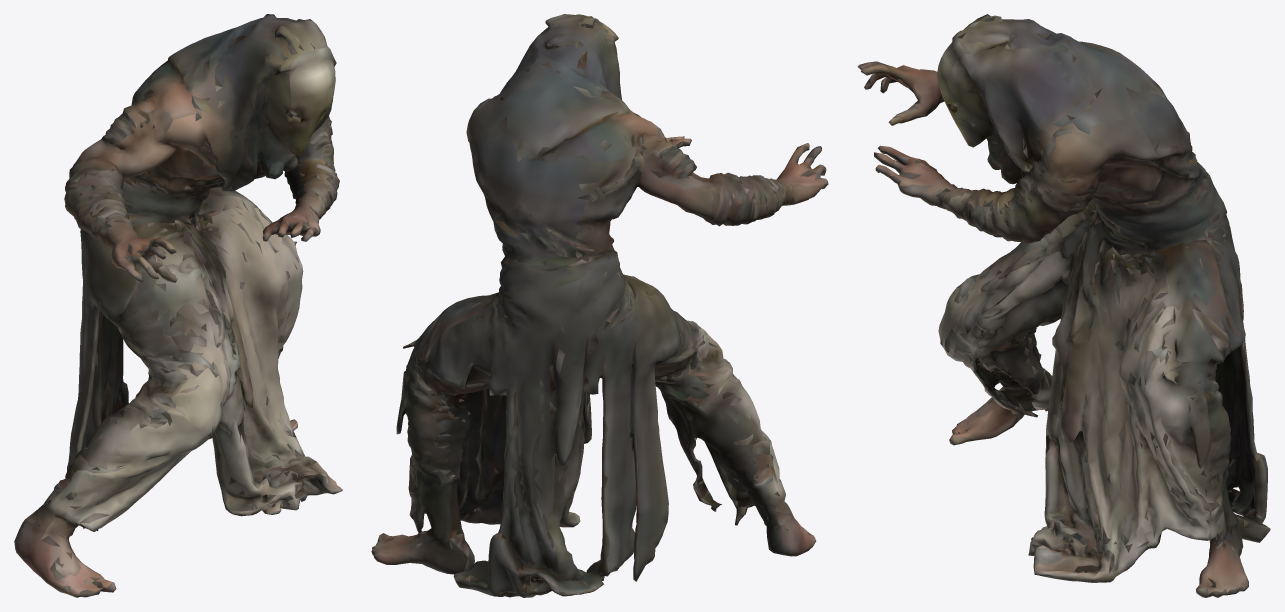
Rendered from Disciple_of_the_Forgo_1226101744_texture_final.glb.
3 renders of one model, left to right at view 1: azimuth 30°, elevation 25°; view 2: azimuth 150°, elevation 25°; view 3: azimuth 270°, elevation 25°, orthographic. The views are drawn at different scales.
Visible parts, largest first — view 1: Mesh_0; view 2: Mesh_0; view 3: Mesh_0.
Boxes of the visible parts, x1,y1,x2,y2 form: Mesh_0: [14, 14, 342, 597]; Mesh_0: [371, 14, 828, 597]; Mesh_0: [857, 14, 1270, 597].
Bounding box in the file's own units: 1.34 × 1.8 × 1.28.
Materials: 1 (1 with a texture image).
